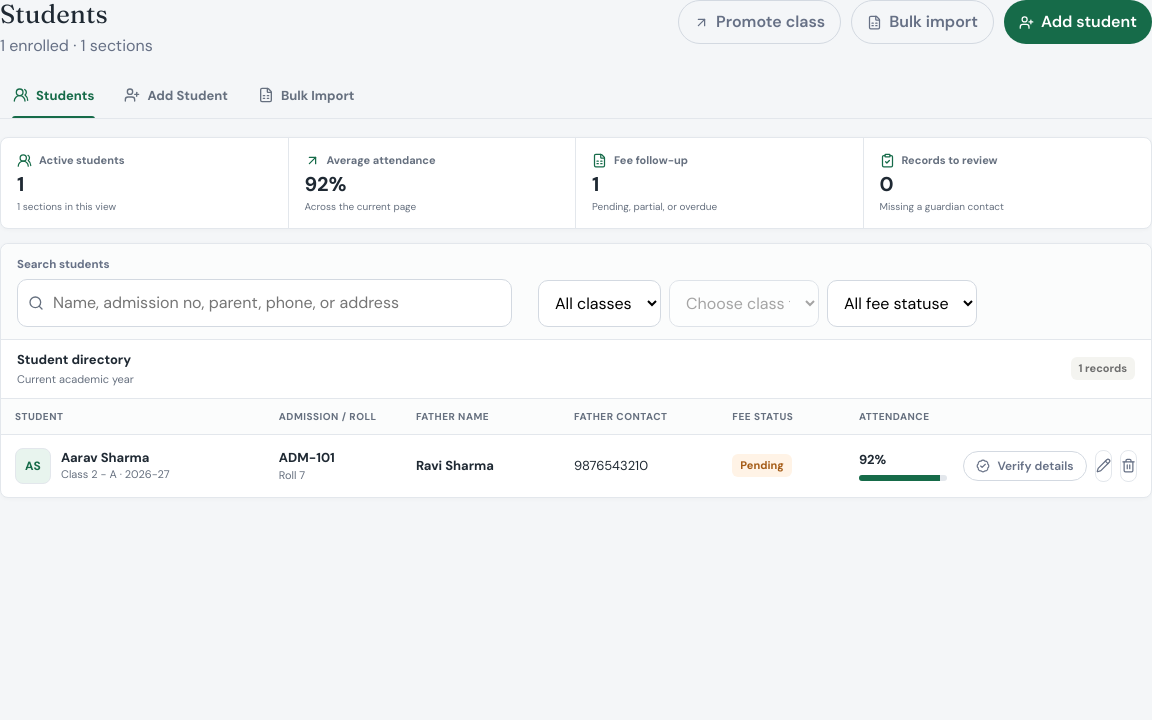
Test: StudentsPanel › does not enable a verification panel from a superseded modal request
Step 1. Click the button with aria-label "Verify details for Aarav Sharma" → click(1025, 466), box [963,451,1087,481]
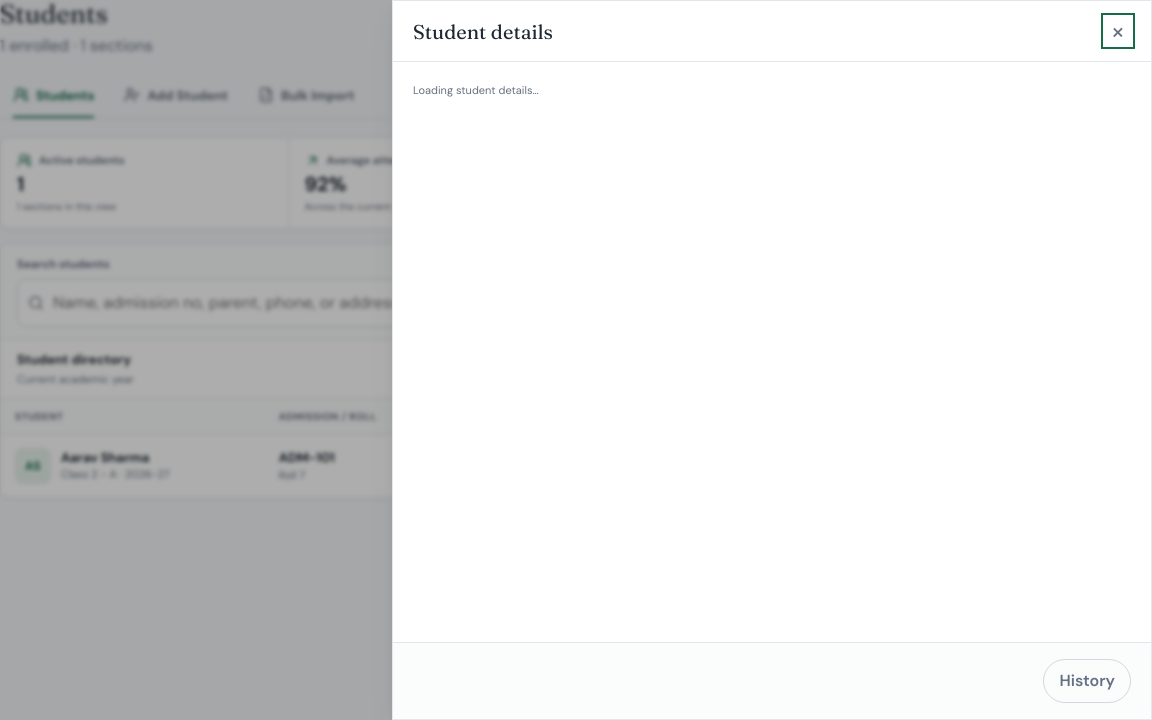
Step 2. Click the button named "Close student details" → click(1118, 31), box [1105,17,1131,45]
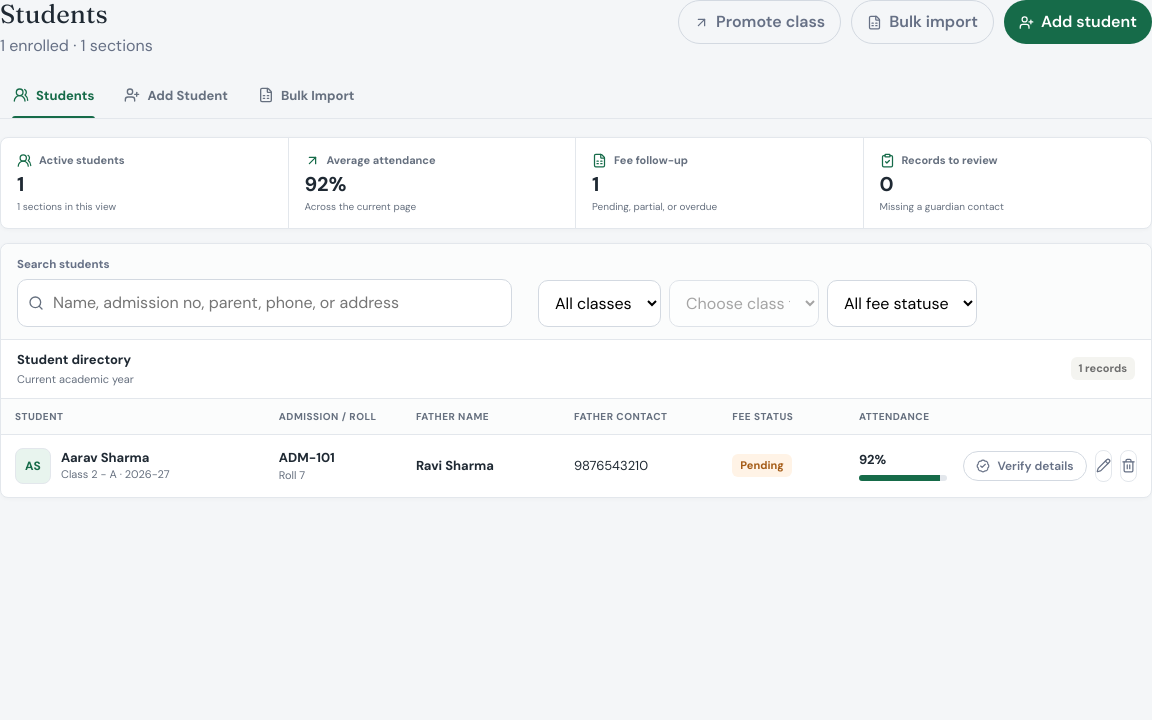
Result: the text "Student details" is gone
